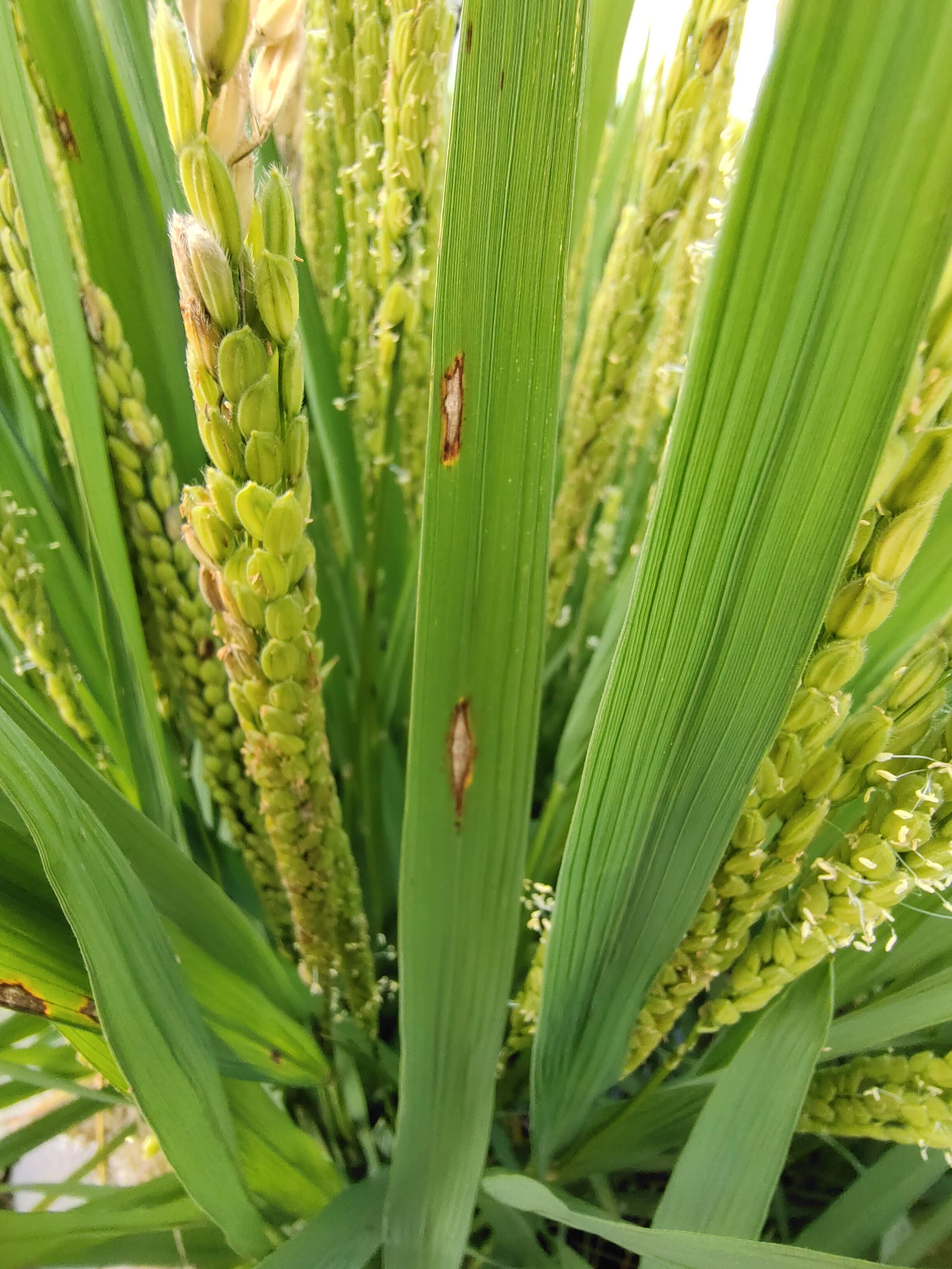LEAF: (383, 0, 587, 1269)
LEAF BLAST: (447, 699, 476, 830), (441, 353, 464, 465), (466, 20, 472, 52), (499, 67, 504, 91)
